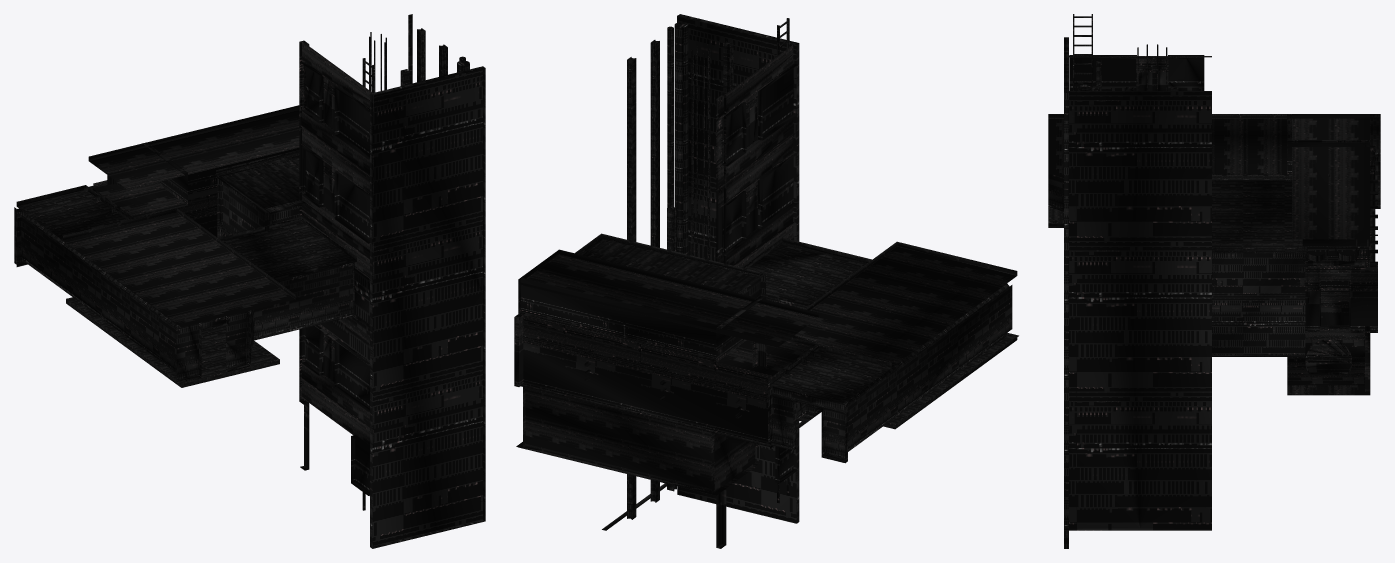
The model's file is room2shaft_opt.obj.
3 renders of one model, left to right at view 1: azimuth 30°, elevation 25°; view 2: azimuth 150°, elevation 25°; view 3: azimuth 270°, elevation 25°, orthographic. The views are drawn at different scales.
Size of the model in its own units: 114 by 164 by 102.
23 materials, 23 textured.
